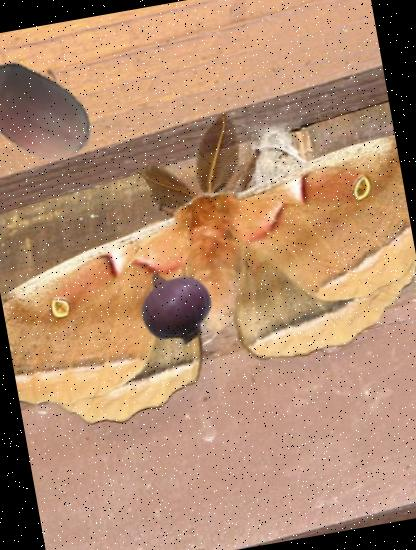Hazelnut: (0, 41, 108, 185)
Onion: (130, 260, 220, 350)
